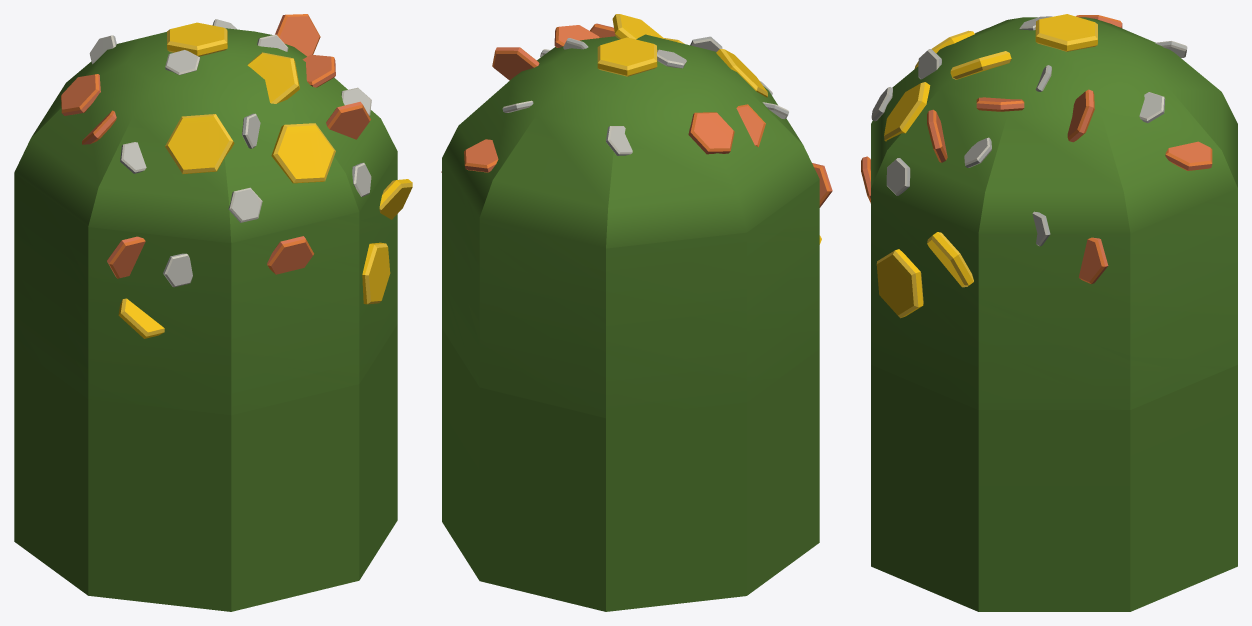
The model's file is MoneyFull_Mesh.fbx.
3 renders of one model, left to right at view 1: azimuth 30°, elevation 25°; view 2: azimuth 150°, elevation 25°; view 3: azimuth 270°, elevation 25°, orthographic. The views are drawn at different scales.
Parts seen in each view (by area): view 1: MoneyFull_Mesh; view 2: MoneyFull_Mesh; view 3: MoneyFull_Mesh.
Part boxes in pixels (x1,y1,x2,y2): MoneyFull_Mesh: [14, 14, 412, 611]; MoneyFull_Mesh: [441, 14, 832, 611]; MoneyFull_Mesh: [861, 14, 1237, 611].
Size of the model in its own units: 16.24 by 23.78 by 16.02.
1 material, 1 textured.
